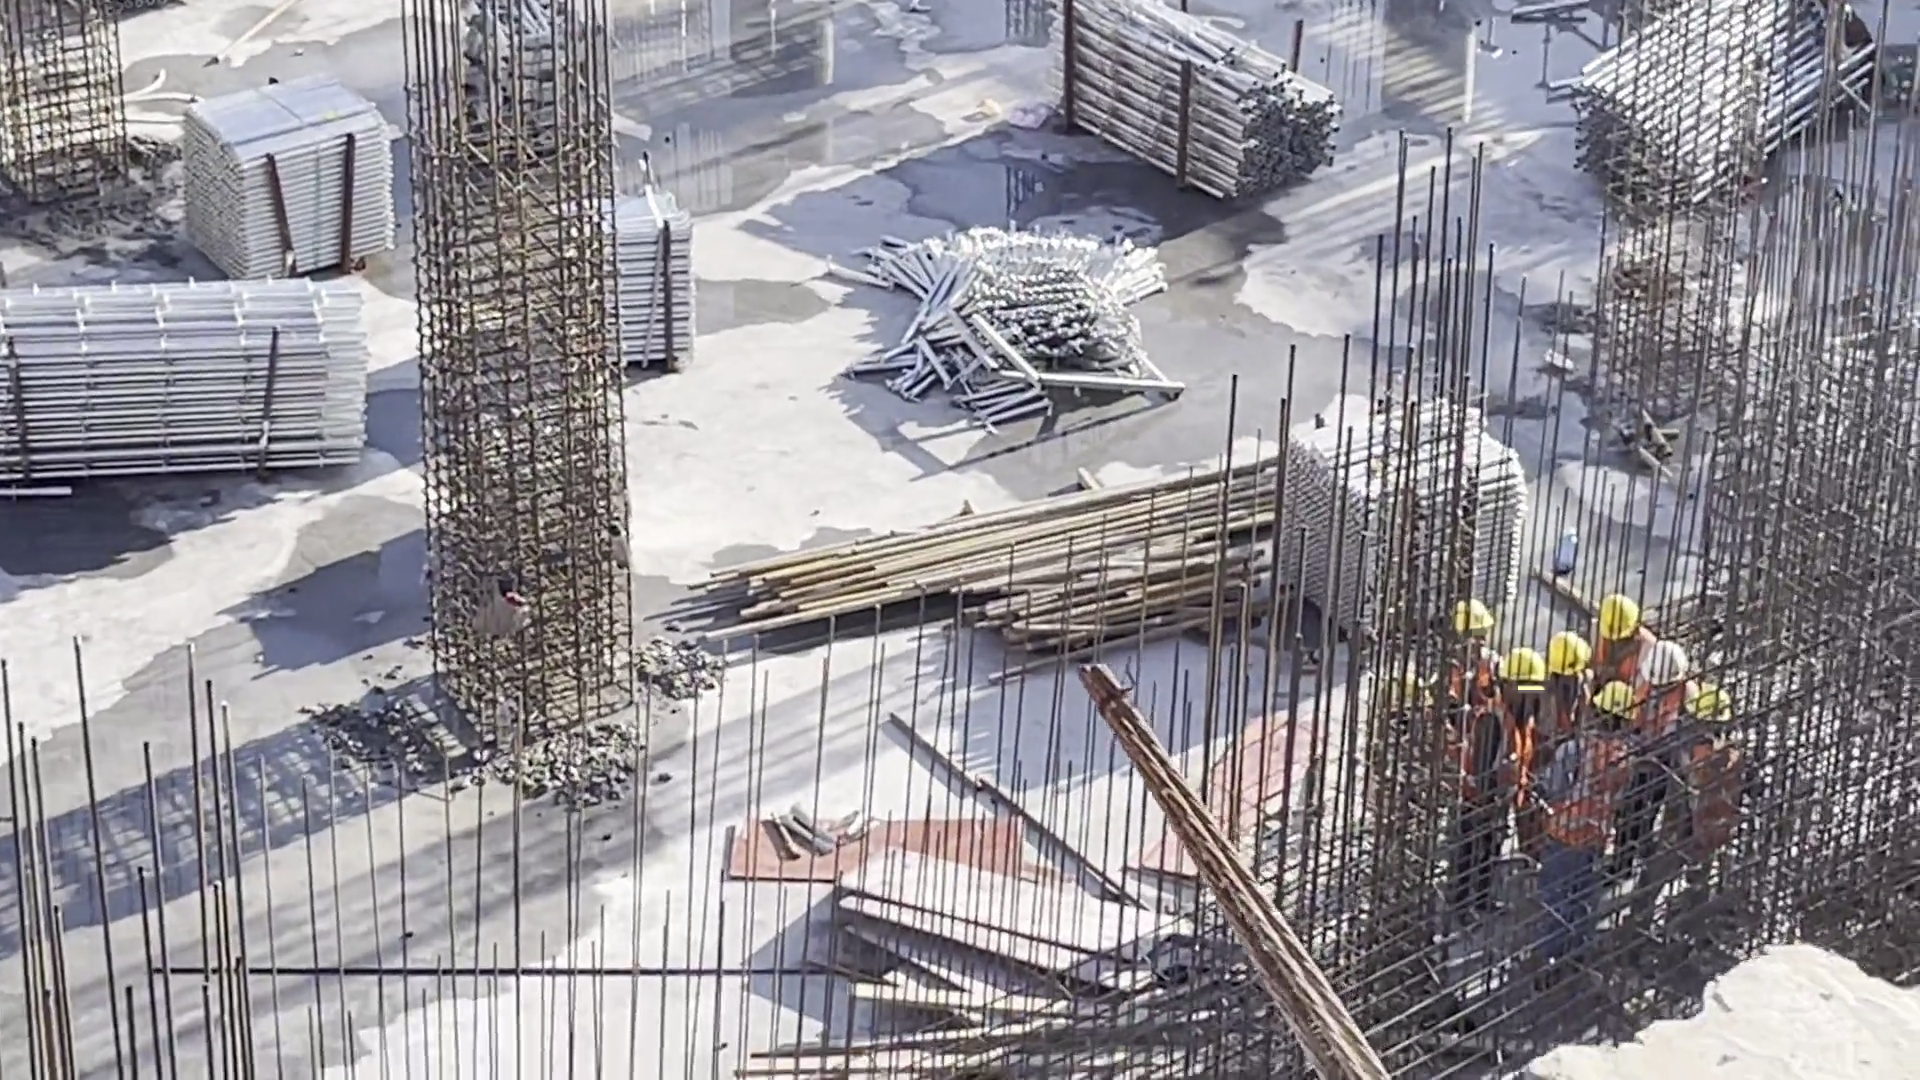board: (846, 863, 1160, 1018)
helmet: (1546, 632, 1596, 676), (1492, 648, 1546, 685), (1686, 687, 1730, 730), (1596, 592, 1633, 642), (1640, 649, 1682, 690), (1600, 683, 1640, 724), (1450, 601, 1492, 635)
person: (1529, 679, 1647, 957), (1465, 649, 1555, 949), (1646, 680, 1744, 946), (1615, 637, 1691, 861), (1440, 591, 1492, 778), (1525, 620, 1588, 762), (1576, 584, 1653, 698)
scaffold: (1, 280, 377, 451), (1559, 20, 1844, 223), (1060, 1, 1339, 203), (1288, 443, 1533, 644), (912, 240, 1147, 420), (196, 113, 396, 256), (575, 211, 720, 355)
vest: (1562, 745, 1625, 857), (1476, 713, 1530, 815)
